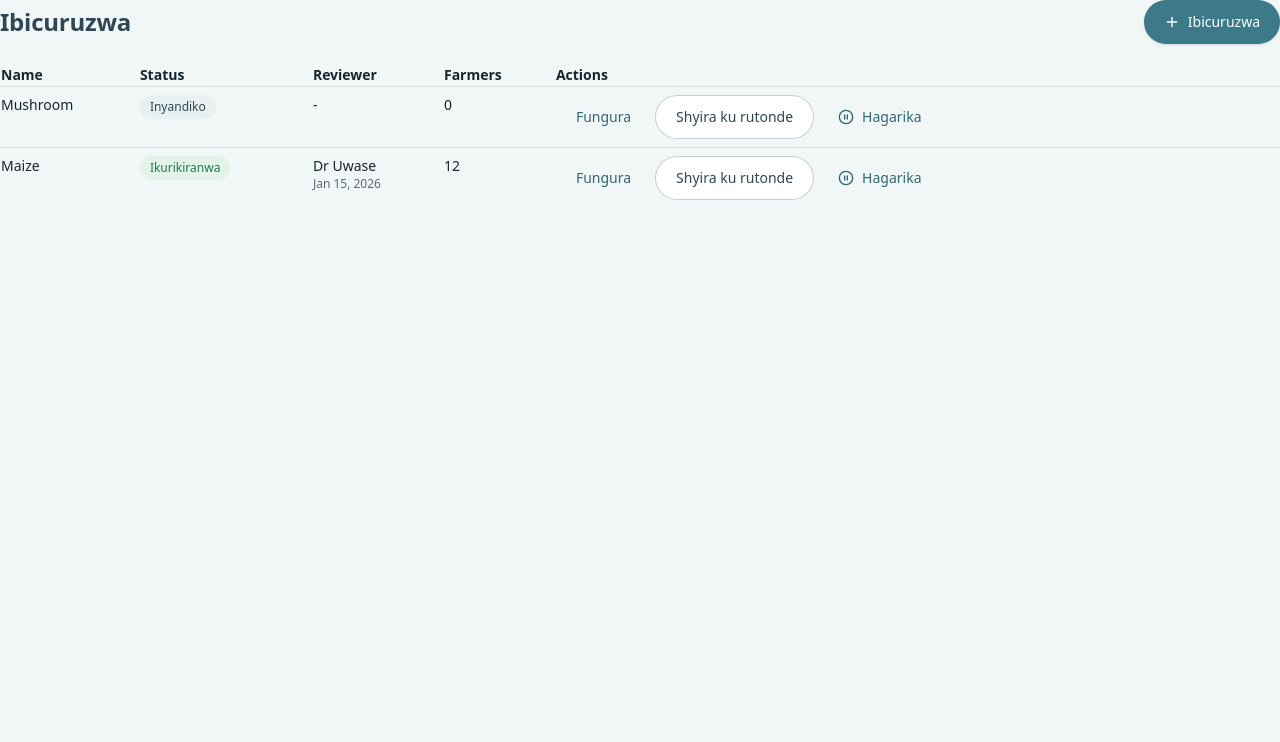
Test: admin product list › shows what is still needed once a product is opened
The width and height of the screenshot is (1280, 742).
Expected: the column heading "Mushroom" is shown, x1=0 y1=86 x2=139 y2=148
Step 1. Click the button "Fungura" in the row of "Mushroom" → [604, 117], box x1=556 y1=95 x2=651 y2=139
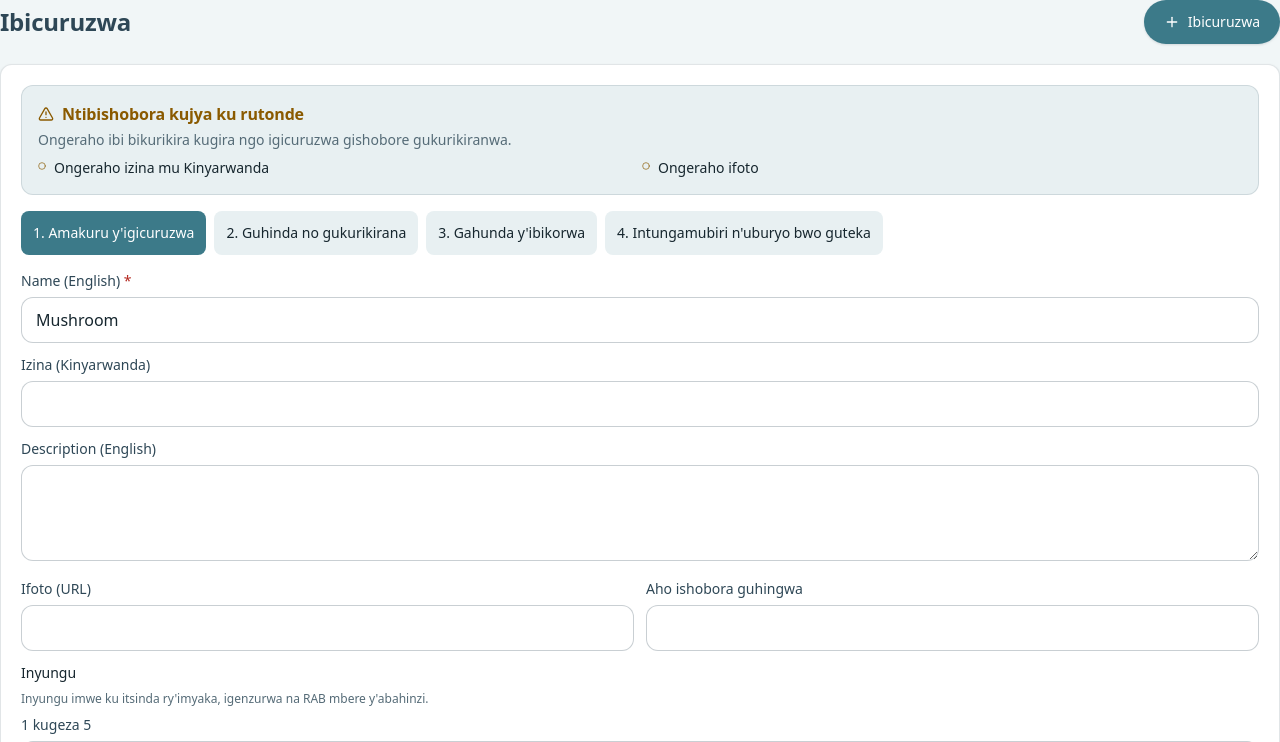
Result: the heading "Ntibishobora kujya ku rutonde" is shown at x1=38 y1=103 x2=304 y2=125
Result: the text "Ongeraho izina mu Kinyarwanda" is shown at x1=54 y1=158 x2=269 y2=178
Result: the text "Ongeraho ifoto" is shown at x1=658 y1=158 x2=759 y2=178
